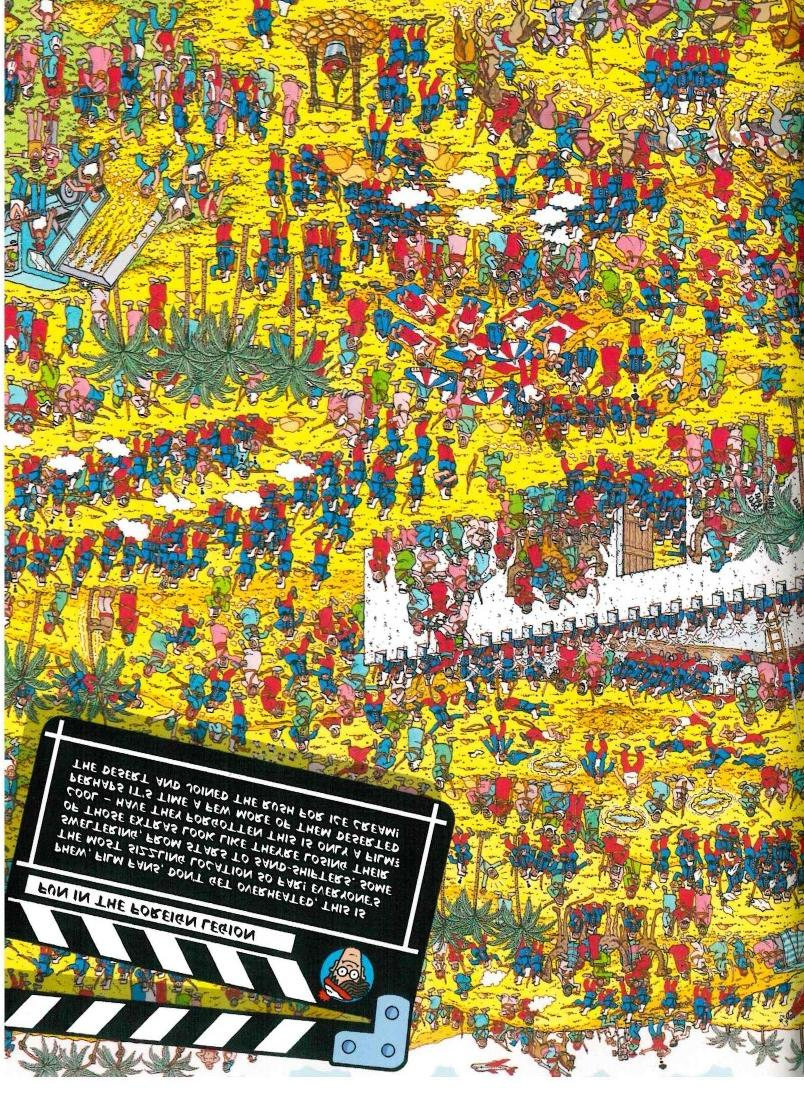waldos: (156, 570, 170, 593)
